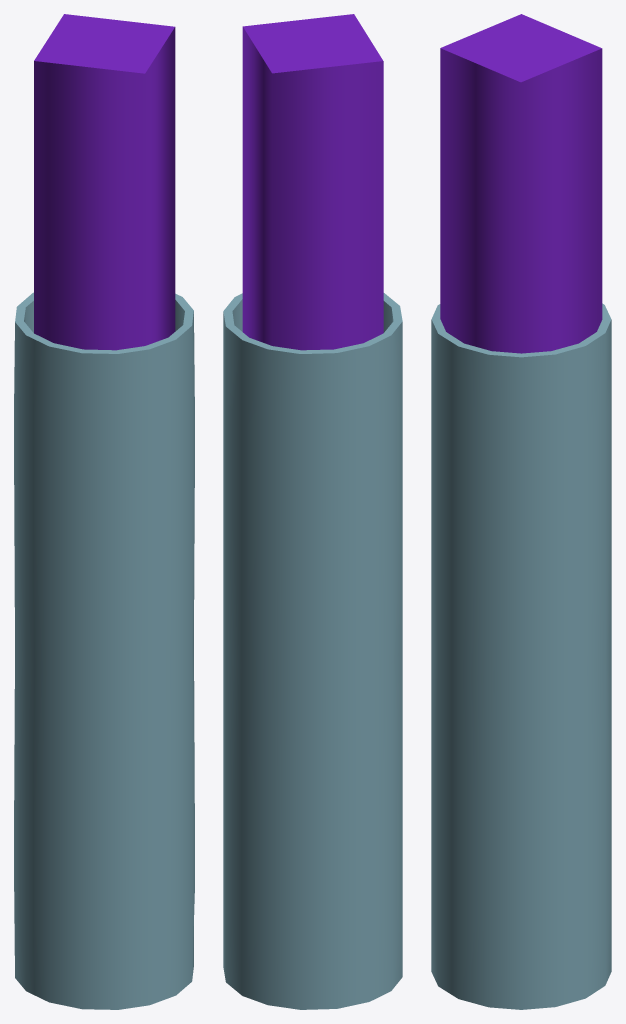
Rendered from Body.obj.
3 views of the same model, side by side, from view 1: azimuth 30°, elevation 25°; view 2: azimuth 150°, elevation 25°; view 3: azimuth 270°, elevation 25° (orthographic).
Bounding box in the file's own units: 0.5 × 2.83 × 0.5.
